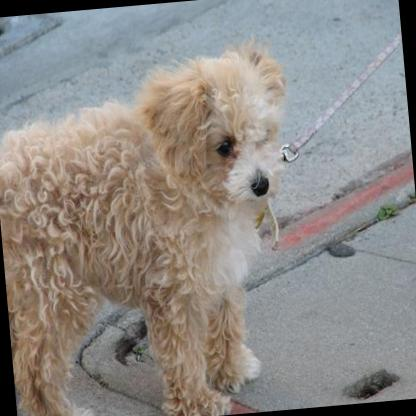toy_poodle: (0, 36, 311, 416)
